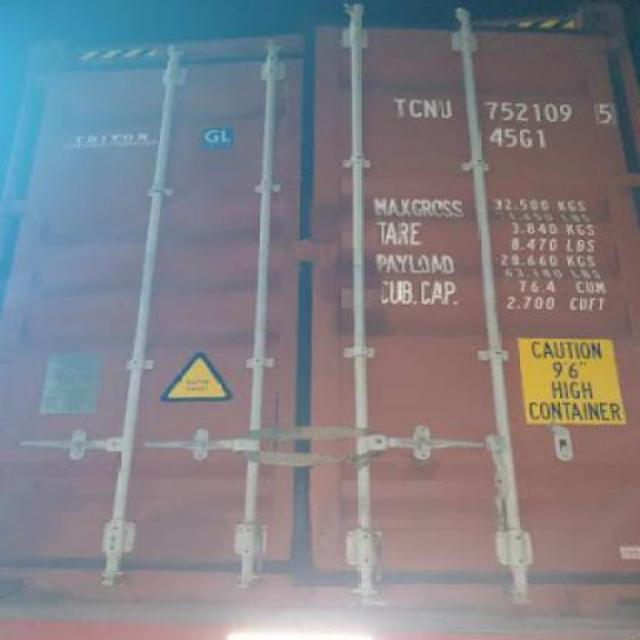0: (542, 100, 562, 124)
1: (530, 99, 548, 129)
2: (514, 100, 532, 124)
5: (596, 102, 616, 126), (500, 99, 516, 123)
7: (486, 100, 499, 122)
9: (558, 104, 578, 125)
C: (411, 98, 424, 122)
N: (422, 98, 438, 119)
T: (392, 95, 408, 118)
U: (438, 98, 456, 120)
